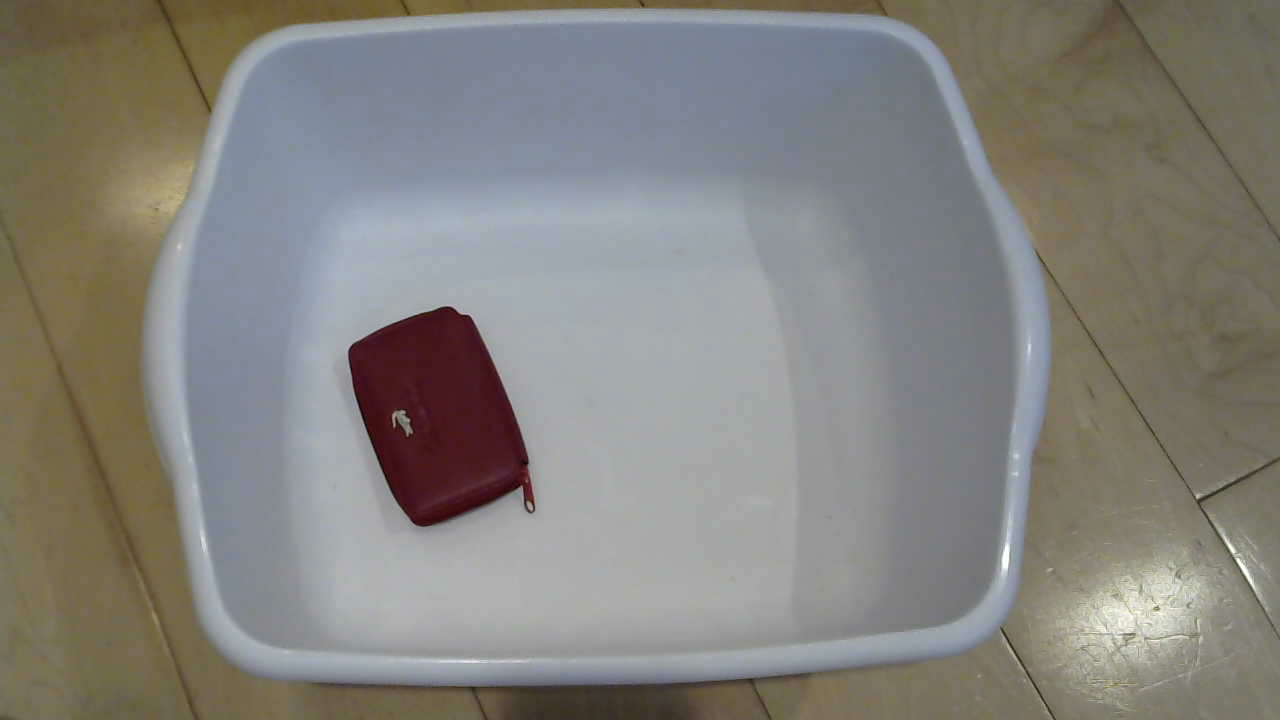wallet: (324, 302, 560, 542)
